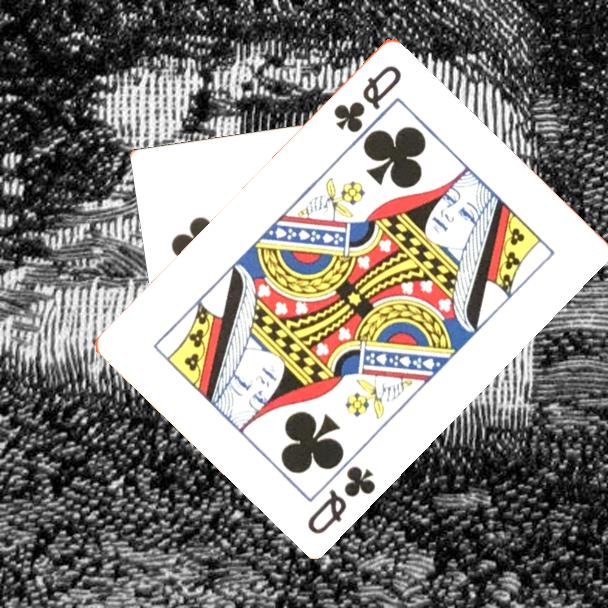c12: (303, 461, 379, 537), (330, 61, 405, 135)
